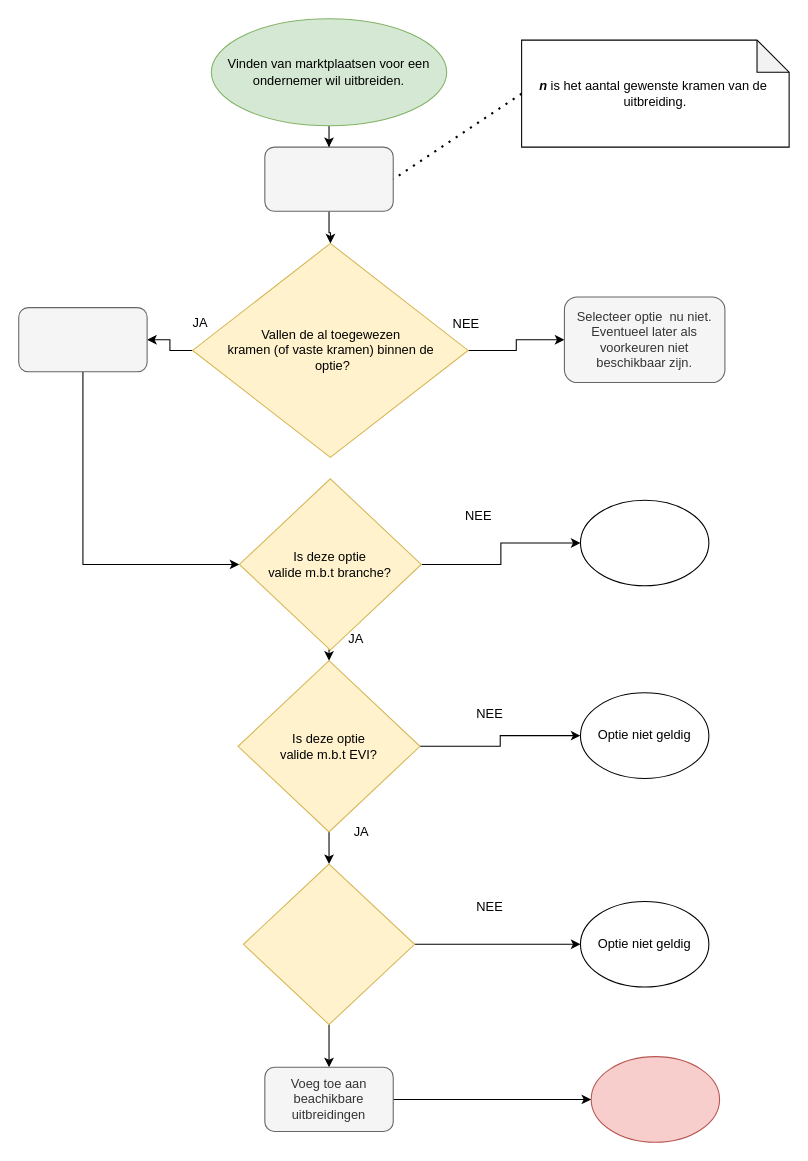
Image size: 808x1161. Some labels were removed from this diagram. Here are the shapes that lost their labels. From the top down, the centre of each, then its label:
point 328,178: Zoek een n aantal aaneengesloten kramen (een 'optie')
point 82,339: Selecteer optie
point 644,542: Optie niet gelding
point 328,944: Is deze optie nog vrij?
point 655,1099: Beschikbare uitbreidingen
